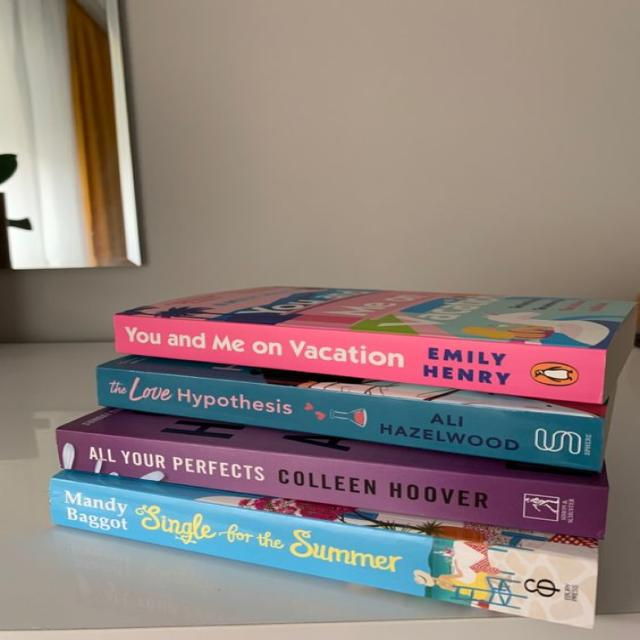book: (50, 470, 598, 627), (60, 430, 610, 541), (98, 355, 606, 471), (118, 314, 606, 400)
